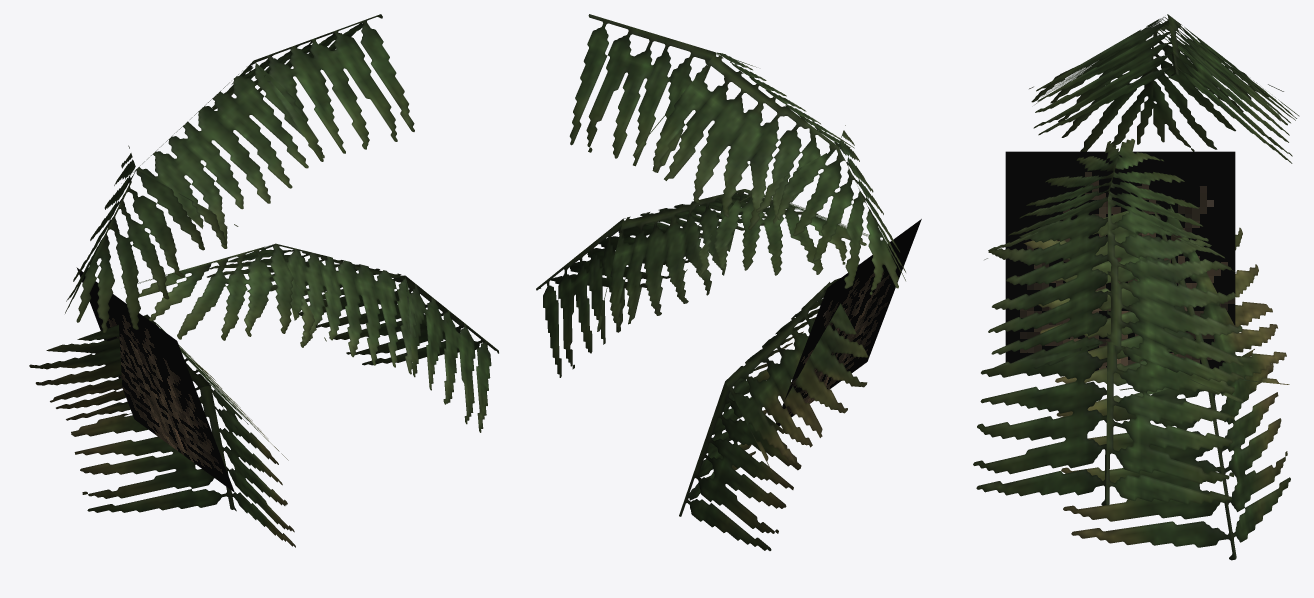
File: caribbean_royal_palm_straight_1.obj
3 renders of one model, left to right at view 1: azimuth 30°, elevation 25°; view 2: azimuth 150°, elevation 25°; view 3: azimuth 270°, elevation 25°, orthographic. The views are drawn at different scales.
Parts seen in each view (by area): view 1: cube.232; view 2: cube.232; view 3: cube.232.
Boxes of the visible parts, x1,y1,x2,y2 form: cube.232: (29,14,498,547); cube.232: (536,14,921,550); cube.232: (973,14,1299,560).
Bounding box in the file's own units: 3.59 × 4.1 × 2.15.
